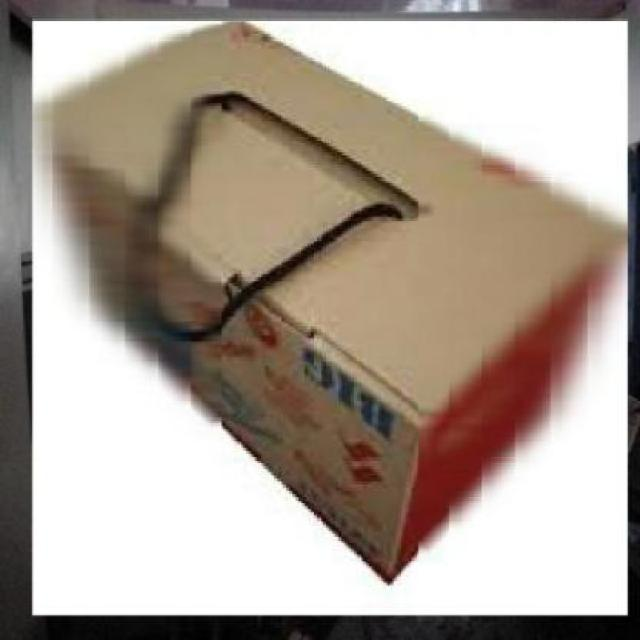box: (25, 12, 637, 625)
